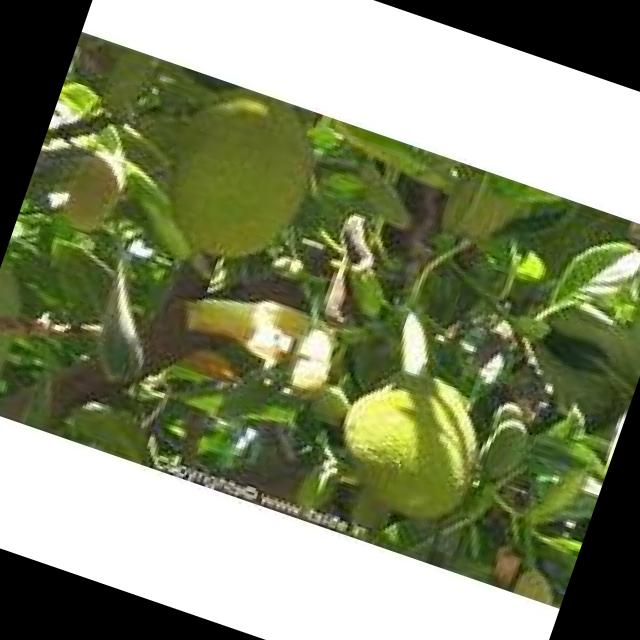Fruit: (91, 56, 352, 306)
